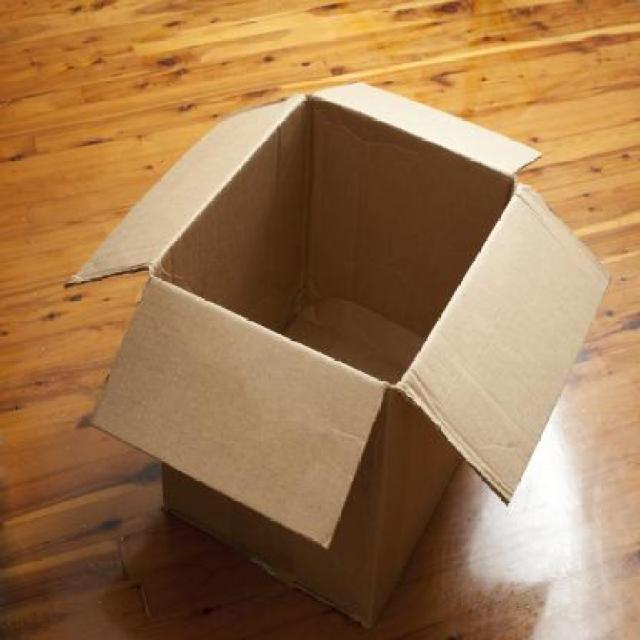box: (91, 77, 590, 631)
